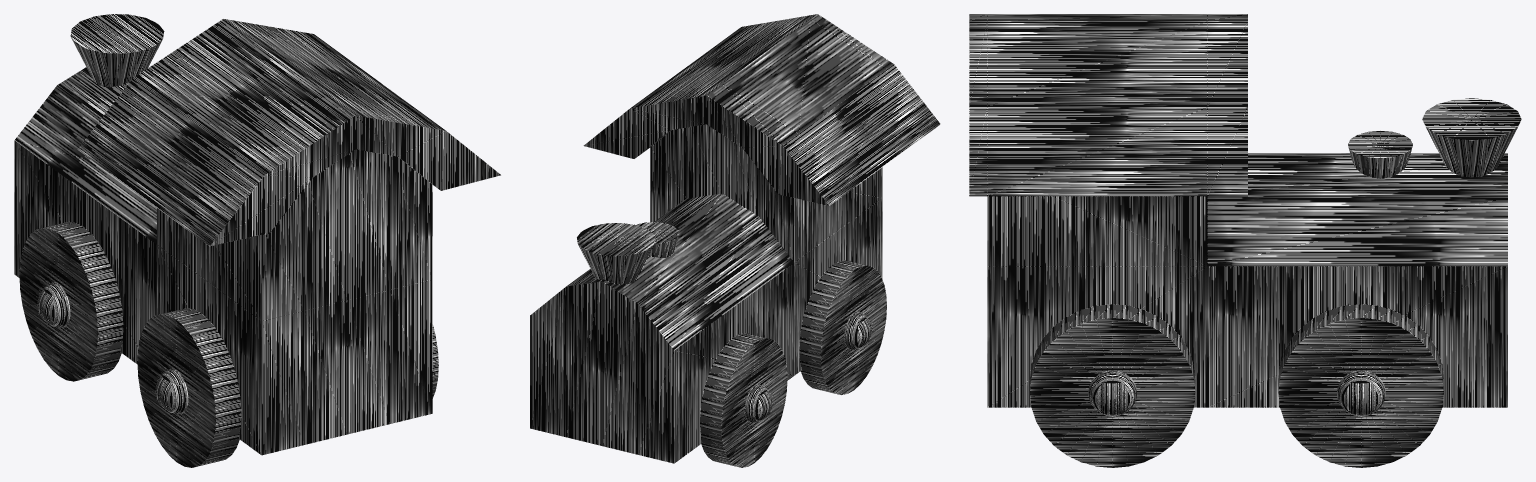
The model's file is Train.fbx.
The picture shows the model from 3 angles, left to right: view 1: azimuth 30°, elevation 25°; view 2: azimuth 150°, elevation 25°; view 3: azimuth 270°, elevation 25°; orthographic projection. The views are drawn at different scales.
Parts seen in each view (by area): view 1: Cube, Wheel, Wheel__1_, Cylinder, Sphere_1, Sphere; view 2: Cube, Wheel, Wheel__1_, Cylinder, Cylinder__2_, Sphere_1, Sphere; view 3: Cube, Wheel__2_, Wheel__3_, Cylinder, Cylinder__2_, Sphere_3, Sphere_2.
Part boxes in pixels (bbox=[...]): Cube: bbox=[14, 18, 500, 455]; Wheel: bbox=[137, 308, 241, 467]; Wheel__1_: bbox=[19, 221, 123, 381]; Cylinder: bbox=[70, 14, 164, 87]; Sphere_1: bbox=[37, 282, 70, 327]; Sphere: bbox=[155, 368, 188, 413]; Cube: bbox=[530, 14, 940, 463]; Wheel: bbox=[799, 260, 886, 394]; Wheel__1_: bbox=[700, 333, 787, 467]; Cylinder: bbox=[577, 223, 655, 284]; Cylinder__2_: bbox=[636, 222, 678, 257]; Sphere_1: bbox=[744, 384, 772, 422]; Sphere: bbox=[844, 311, 871, 349]; Cube: bbox=[969, 14, 1507, 407]; Wheel__2_: bbox=[1030, 304, 1195, 467]; Wheel__3_: bbox=[1278, 304, 1443, 467]; Cylinder: bbox=[1422, 98, 1521, 177]; Cylinder__2_: bbox=[1348, 131, 1412, 178]; Sphere_3: bbox=[1088, 370, 1136, 416]; Sphere_2: bbox=[1337, 370, 1385, 416].
Size of the model in its own units: 171 by 207 by 266.
4 materials, 4 textured.
